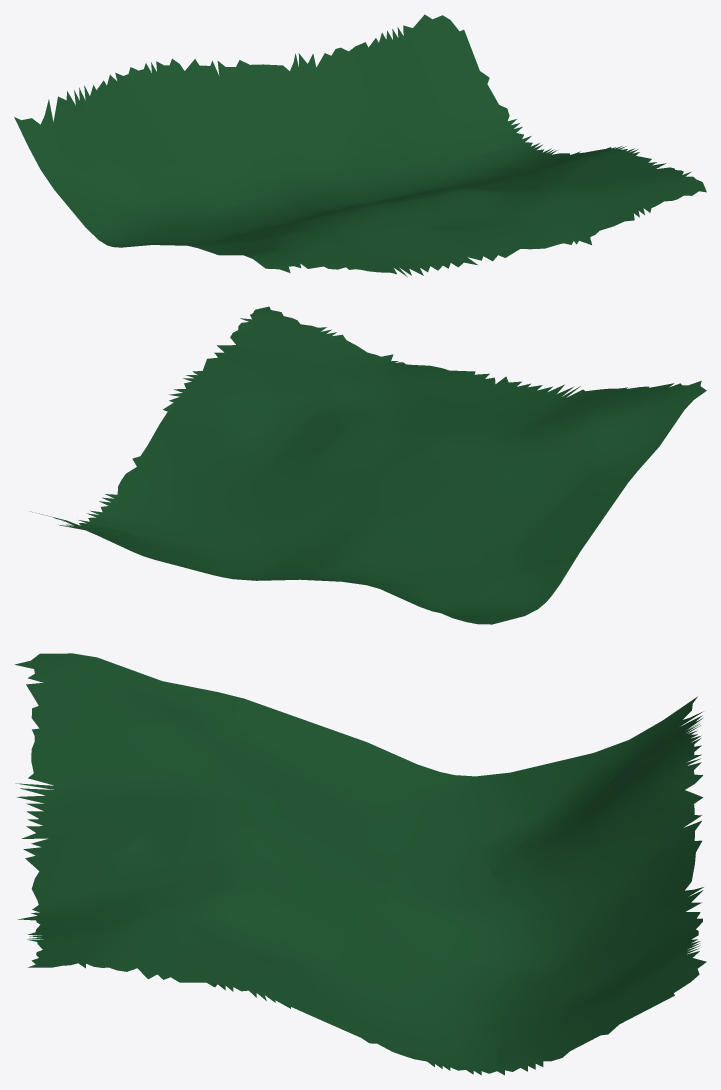
The model's file is payo_land_xm4_y1_lod2.glb.
3 views of the same model, one above another, from view 1: azimuth 30°, elevation 25°; view 2: azimuth 150°, elevation 25°; view 3: azimuth 270°, elevation 25° (orthographic). The views are drawn at different scales.
Parts seen in each view (by area): view 1: payo_land_xm4_y1; view 2: payo_land_xm4_y1; view 3: payo_land_xm4_y1.
Part boxes in pixels (x1,y1,x2,y2): payo_land_xm4_y1: (14, 14, 706, 276); payo_land_xm4_y1: (31, 306, 706, 624); payo_land_xm4_y1: (14, 653, 706, 1075).
Bounding box in the file's own units: 260 × 63.59 × 268.
